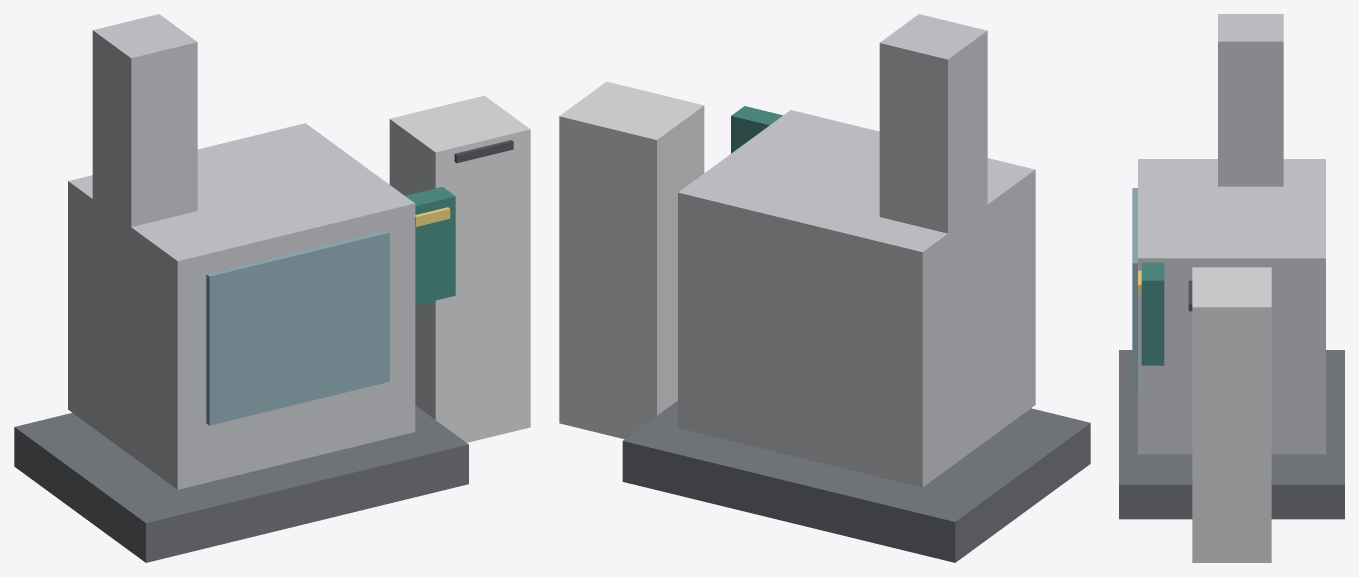
The model's file is cnc-maschine.glb.
3 views of the same model, side by side, from view 1: azimuth 30°, elevation 25°; view 2: azimuth 150°, elevation 25°; view 3: azimuth 270°, elevation 25° (orthographic). The views are drawn at different scales.
Parts seen in each view (by area): view 1: body (×2), cabinet, base, glass, pinie, black; view 2: body (×2), cabinet, base, pinie; view 3: body (×2), cabinet, base, pinie, glass.
Boxes of the visible parts, x1,y1,x2,y2 form: body (×2): (68, 14, 415, 489); cabinet: (389, 95, 530, 442); base: (14, 405, 468, 562); glass: (206, 230, 389, 425); pinie: (405, 186, 455, 305); black: (454, 140, 513, 163); body (×2): (678, 14, 1035, 487); cabinet: (559, 81, 704, 439); base: (622, 400, 1090, 562); pinie: (731, 106, 782, 153); body (×2): (1138, 14, 1325, 454); cabinet: (1192, 267, 1271, 562); base: (1119, 350, 1344, 519); pinie: (1141, 262, 1164, 365); glass: (1132, 188, 1137, 391).
Bounding box in the file's own units: 2.25 × 2.27 × 1.2.
